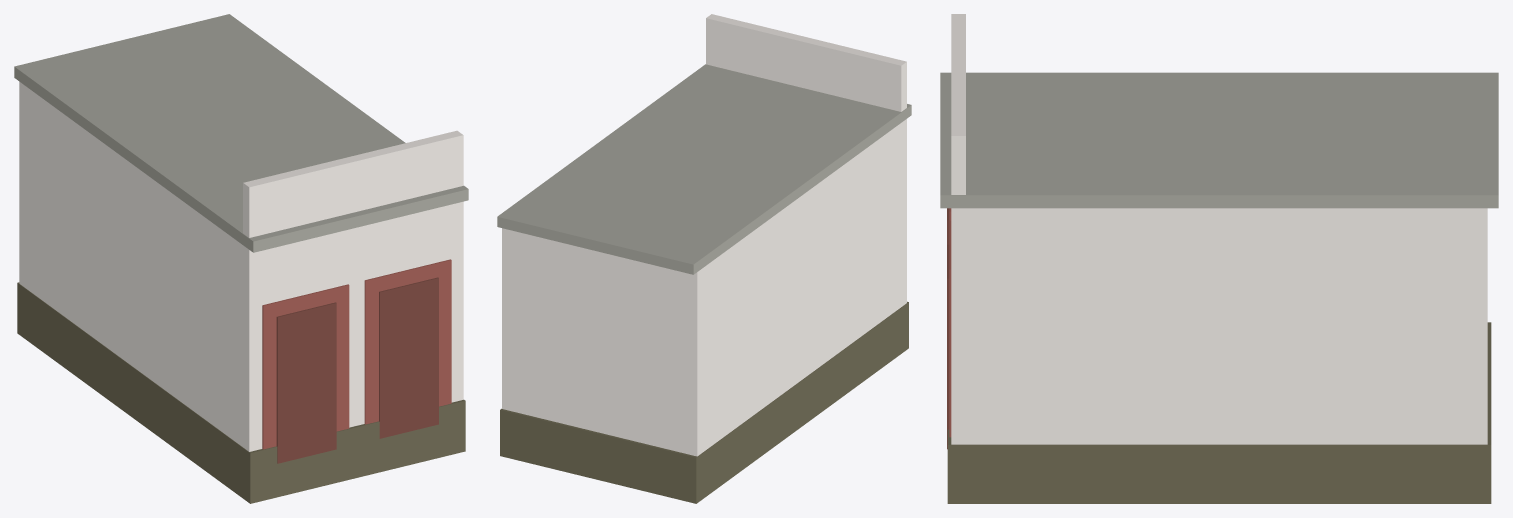
Rendered from SM_KitRemate_v3_LOD1.fbx.
The picture shows the model from 3 angles, left to right: view 1: azimuth 30°, elevation 25°; view 2: azimuth 150°, elevation 25°; view 3: azimuth 270°, elevation 25°; orthographic projection. The views are drawn at different scales.
Visible parts, largest first — view 1: SM_bloques.kit_remate_v3_LOD1; view 2: SM_bloques.kit_remate_v3_LOD1; view 3: SM_bloques.kit_remate_v3_LOD1.
Boxes of the visible parts, x1,y1,x2,y2 form: SM_bloques.kit_remate_v3_LOD1: (14, 14, 468, 503); SM_bloques.kit_remate_v3_LOD1: (497, 14, 911, 503); SM_bloques.kit_remate_v3_LOD1: (940, 14, 1498, 503).
Size of the model in its own units: 4 by 5.6 by 7.7.
